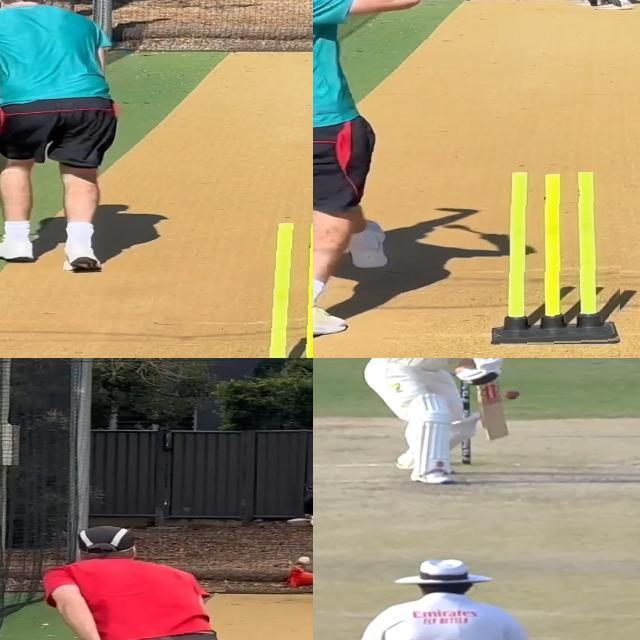Cricket ball: (502, 390, 521, 400), (297, 556, 311, 564)
Stumps: (489, 172, 622, 346), (256, 223, 313, 358)
